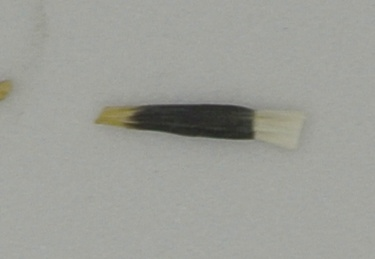เมล็ดดีติดกัน: (95, 93, 308, 150)
